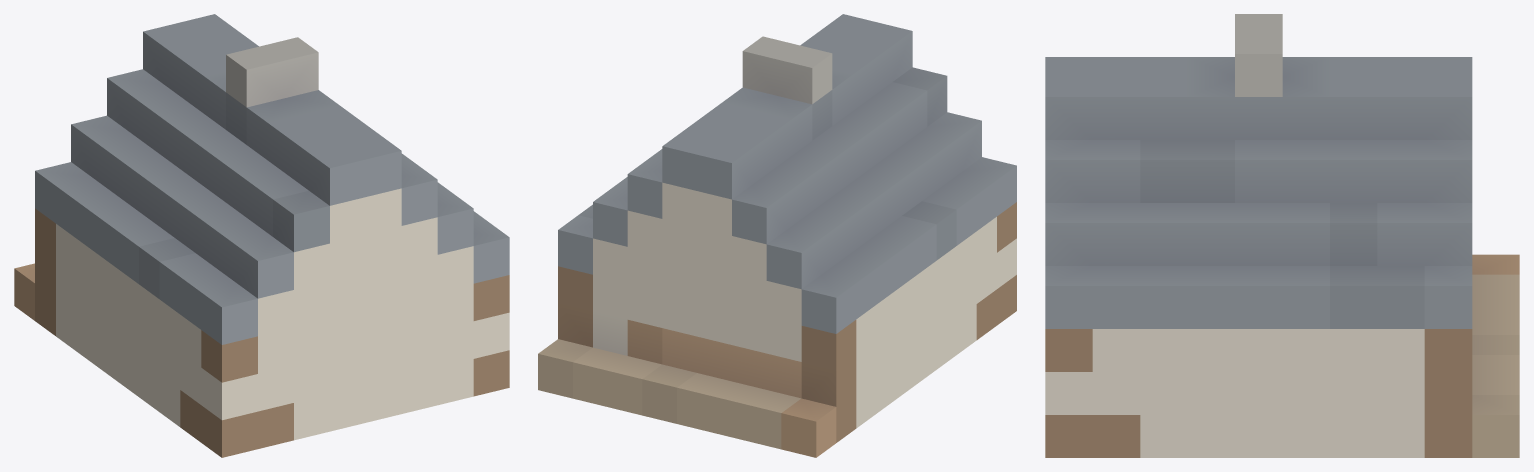
The model's file is butcher.lite.glb.
3 renders of one model, left to right at view 1: azimuth 30°, elevation 25°; view 2: azimuth 150°, elevation 25°; view 3: azimuth 270°, elevation 25°, orthographic. The views are drawn at different scales.
Visible parts, largest first — view 1: butcher; view 2: butcher; view 3: butcher.
Boxes of the visible parts, <box> form: butcher: <box>14,14,509,457</box>; butcher: <box>538,14,1016,457</box>; butcher: <box>1045,14,1519,457</box>.
Bounding box in the file's own units: 4 × 4 × 5.
